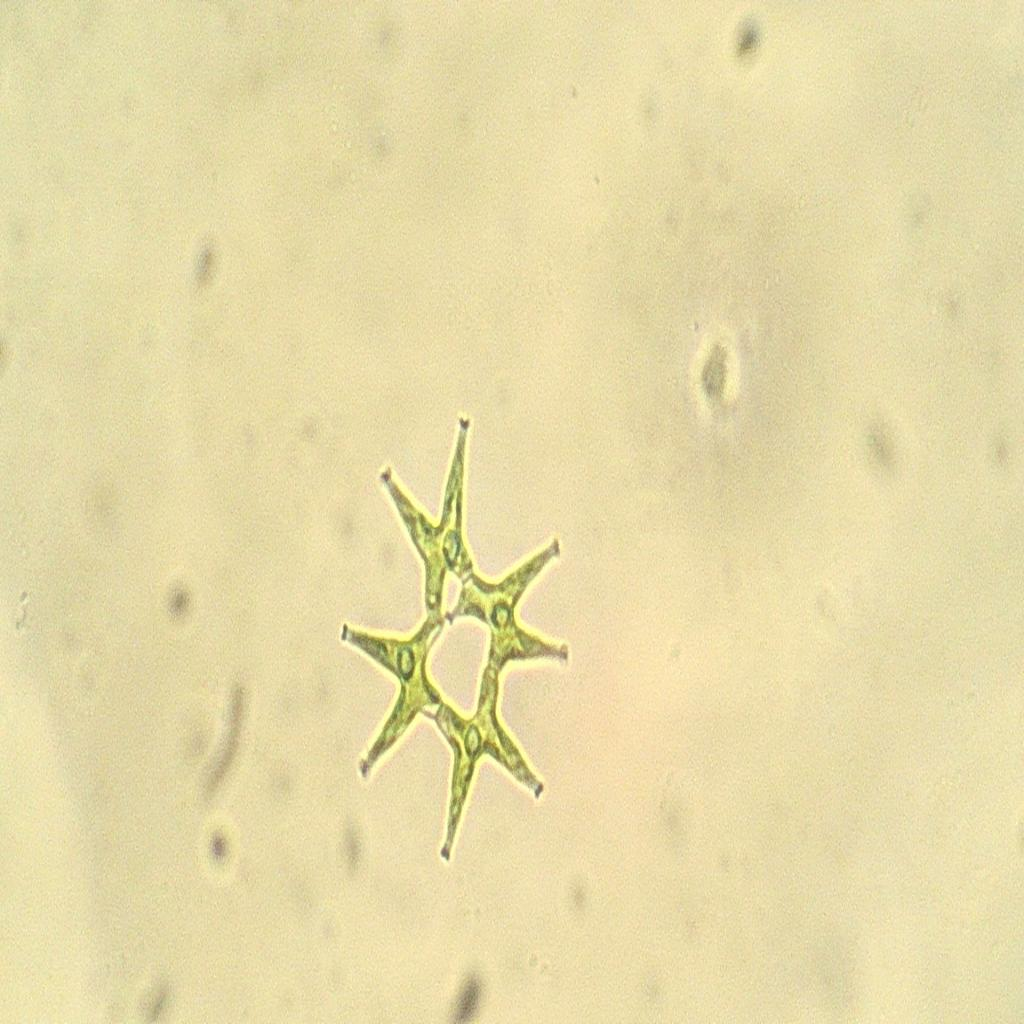Pediastrum_75FO: (327, 402, 585, 884)
